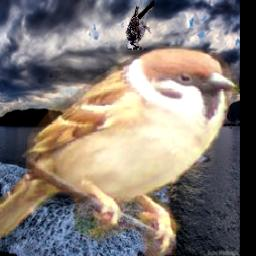Sparrow: (0, 46, 240, 256)
Woodpecker: (126, 0, 155, 51)
